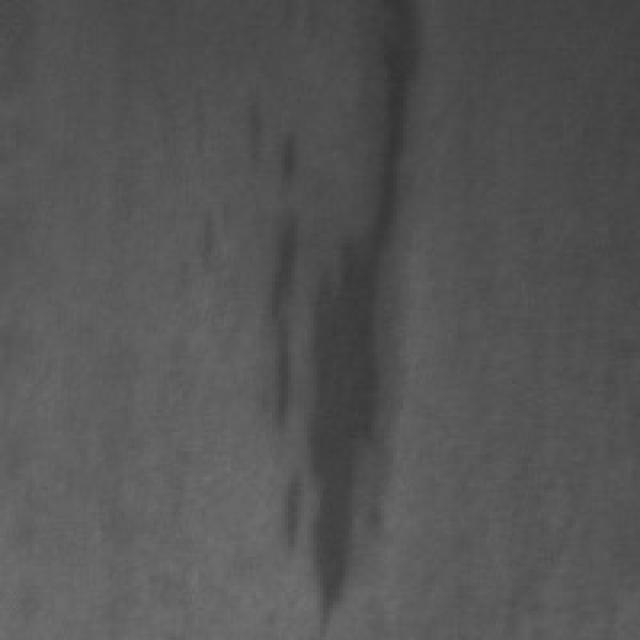inclusion: (243, 48, 410, 634)
